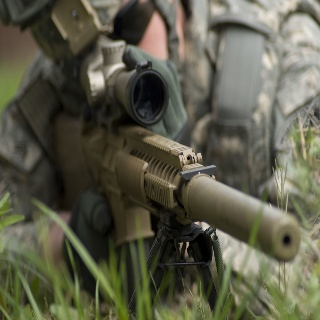rifle: (51, 1, 304, 317)
